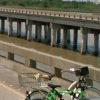Bicycle: (21, 67, 99, 100)
